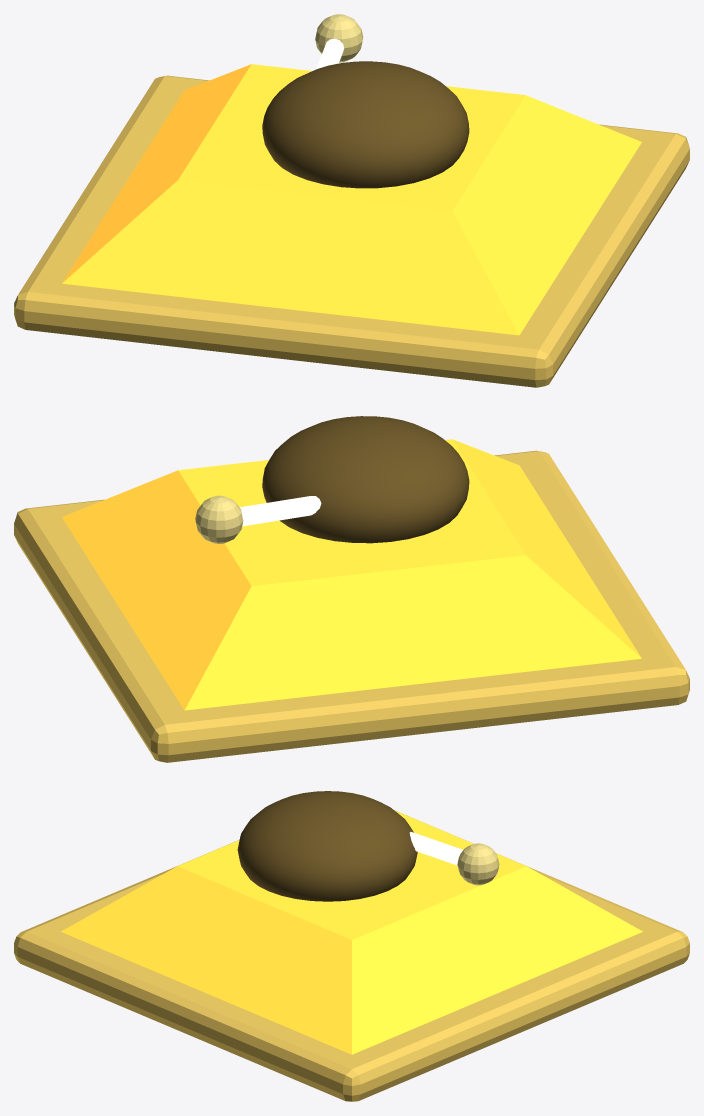
Rendered from SM_Pickup_Bomb.fbx.
3 views of the same model, one above another, from view 1: azimuth 30°, elevation 25°; view 2: azimuth 150°, elevation 25°; view 3: azimuth 270°, elevation 25° (orthographic). The views are drawn at different scales.
Visible parts, largest first — view 1: SM_Pickup_Bomb; view 2: SM_Pickup_Bomb; view 3: SM_Pickup_Bomb.
Boxes of the visible parts, left/top/right/bottom form: SM_Pickup_Bomb: left=14, top=14, right=689, bottom=387; SM_Pickup_Bomb: left=14, top=416, right=689, bottom=762; SM_Pickup_Bomb: left=14, top=791, right=689, bottom=1101.
Bounding box in the file's own units: 1.12 × 0.3425 × 1.12.
